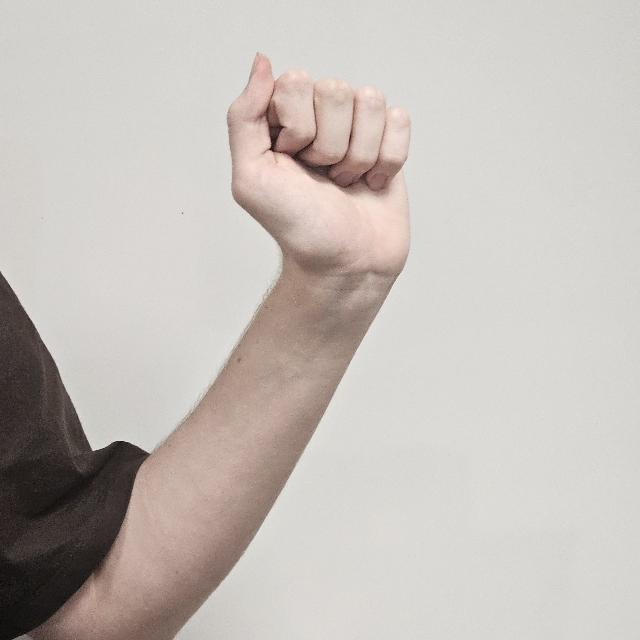Quadro: (227, 44, 421, 278)
